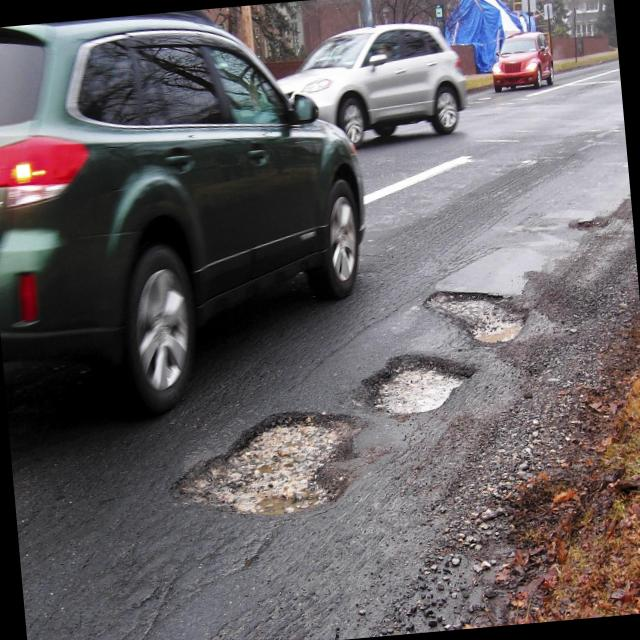Potholes: (162, 403, 374, 536), (352, 338, 474, 423), (421, 274, 534, 364), (568, 207, 614, 250)
